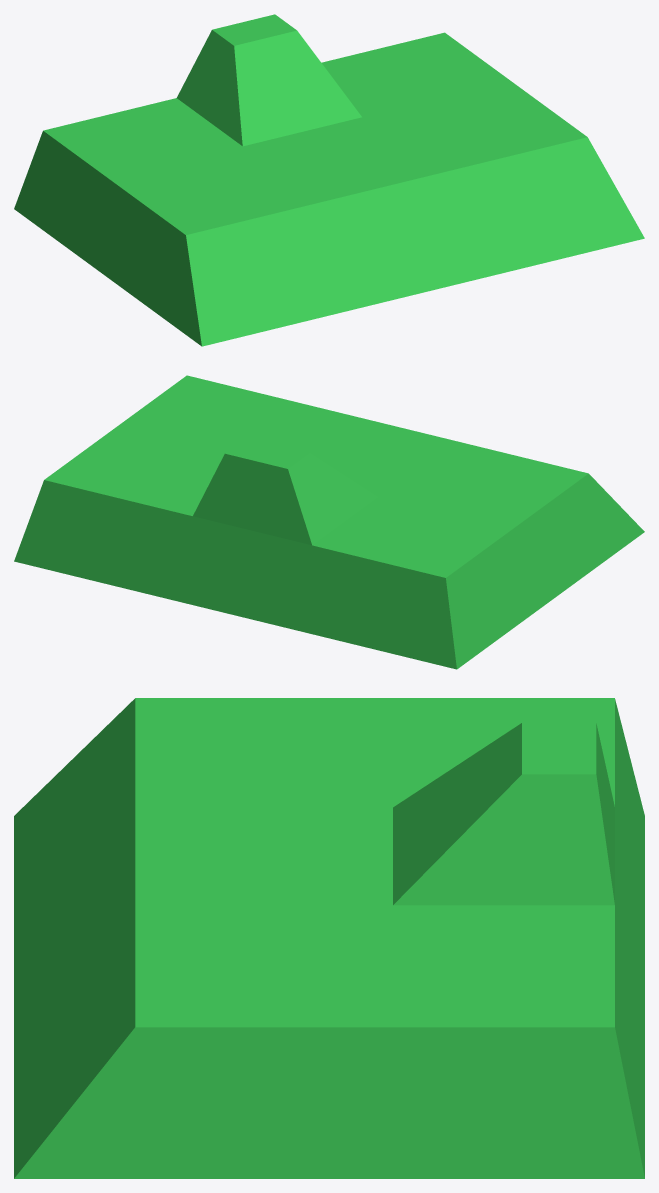
File: original-11.obj
3 renders of one model, top to bottom at view 1: azimuth 30°, elevation 25°; view 2: azimuth 150°, elevation 25°; view 3: azimuth 270°, elevation 25°, orthographic. The views are drawn at different scales.
Visible parts, largest first — view 1: mesh15/mesh15-geometry#mesh15-geometry; view 2: mesh15/mesh15-geometry#mesh15-geometry; view 3: mesh15/mesh15-geometry#mesh15-geometry.
Boxes of the visible parts, x1=… form: mesh15/mesh15-geometry#mesh15-geometry: x1=14, y1=14, x2=644, y2=346; mesh15/mesh15-geometry#mesh15-geometry: x1=14, y1=375, x2=644, y2=669; mesh15/mesh15-geometry#mesh15-geometry: x1=14, y1=698, x2=644, y2=1178.
Bounding box in the file's own units: 0.9213 × 0.2885 × 0.6772.
